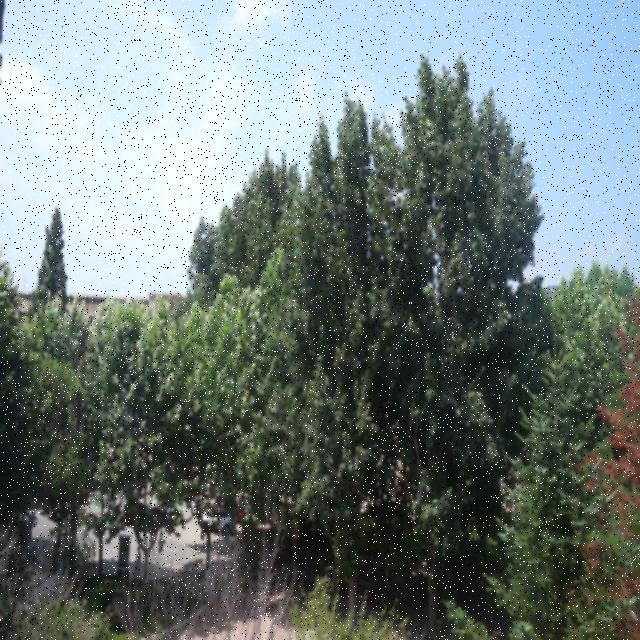UAV: (388, 187, 411, 205)
